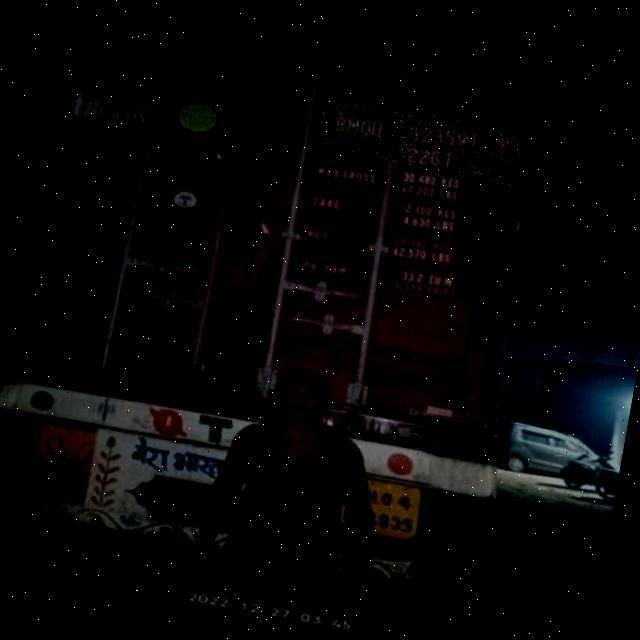container_number_h: (314, 95, 524, 186)
